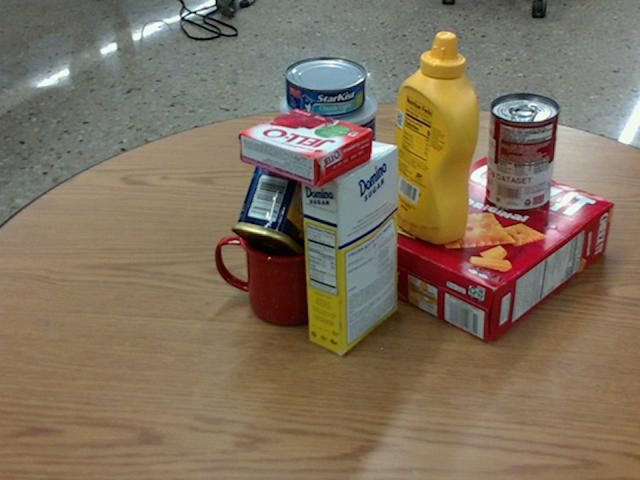cracker_box: (360, 155, 611, 343)
gelatin_box: (237, 107, 373, 187)
large_marker: (407, 112, 426, 213)
master_chef_can: (281, 83, 378, 239)
mug: (213, 208, 333, 324)
mustard_bottle: (387, 31, 479, 244)
potted_meat_can: (231, 143, 334, 266)
sugar_box: (299, 138, 396, 354)
tomato_soup_can: (485, 92, 558, 210)
tuna_fish_can: (284, 56, 366, 117)
